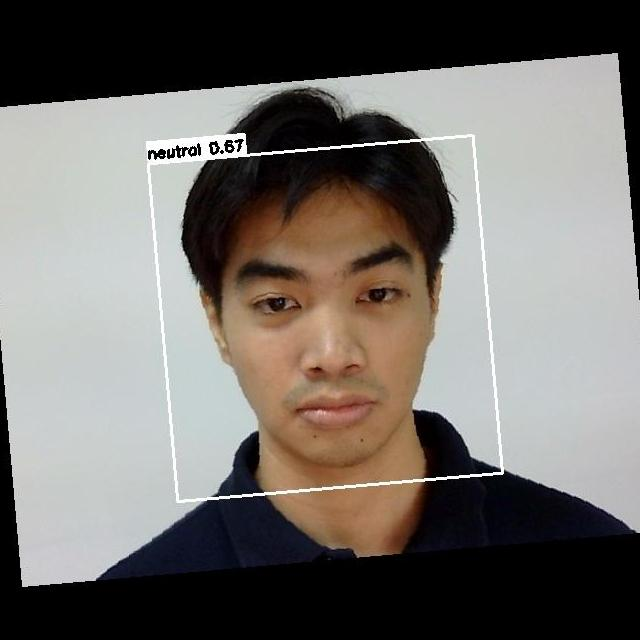Fear: (222, 236, 446, 451)
